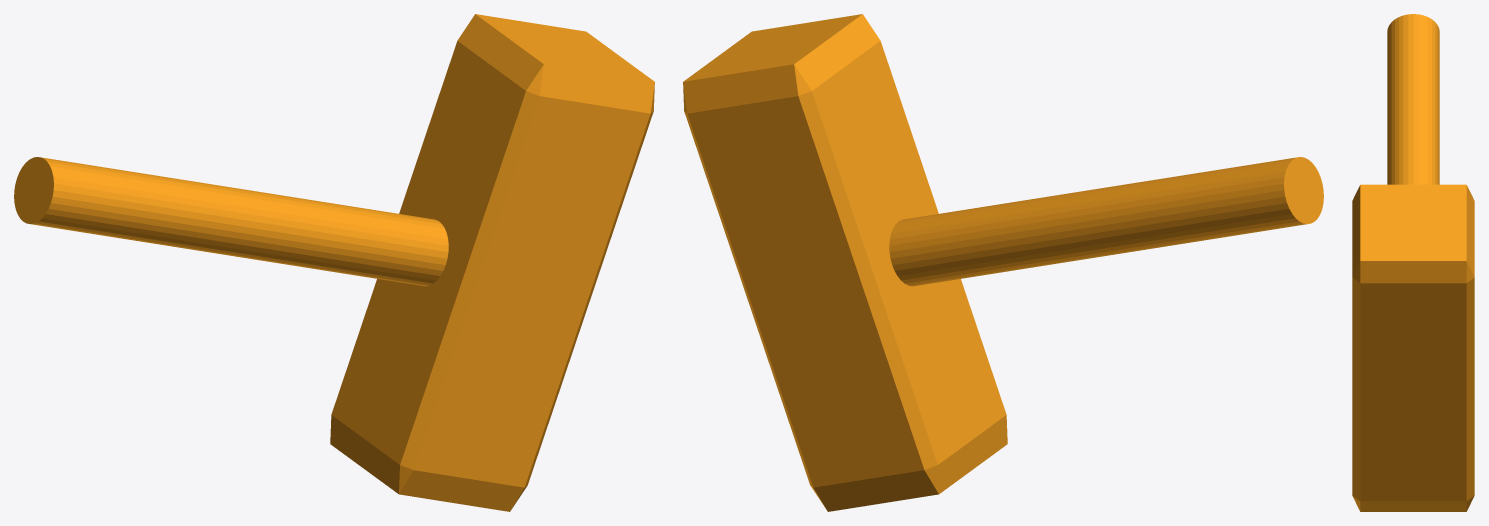
The model's file is hummer_single_color.fbx.
The picture shows the model from 3 angles, left to right: view 1: azimuth 30°, elevation 25°; view 2: azimuth 150°, elevation 25°; view 3: azimuth 270°, elevation 25°; orthographic projection. The views are drawn at different scales.
Parts seen in each view (by area): view 1: Cube.001; view 2: Cube.001; view 3: Cube.001.
Boxes of the visible parts, x1,y1,x2,y2 form: Cube.001: (14,14,654,511); Cube.001: (683,14,1323,511); Cube.001: (1352,14,1474,511).
Size of the model in its own units: 873 by 614 by 200.
